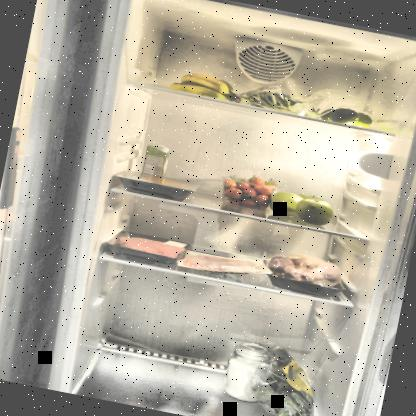apple: (270, 187, 338, 228)
banana: (163, 66, 244, 104)
beef: (114, 166, 202, 204)
chicken: (256, 244, 352, 300)
green_beans: (235, 70, 362, 127)
ground_beef: (100, 226, 188, 270)
heavy_cream: (139, 140, 172, 180)
lime: (310, 101, 374, 131)
spinach: (242, 340, 338, 415)
strawberries: (215, 166, 282, 214)
